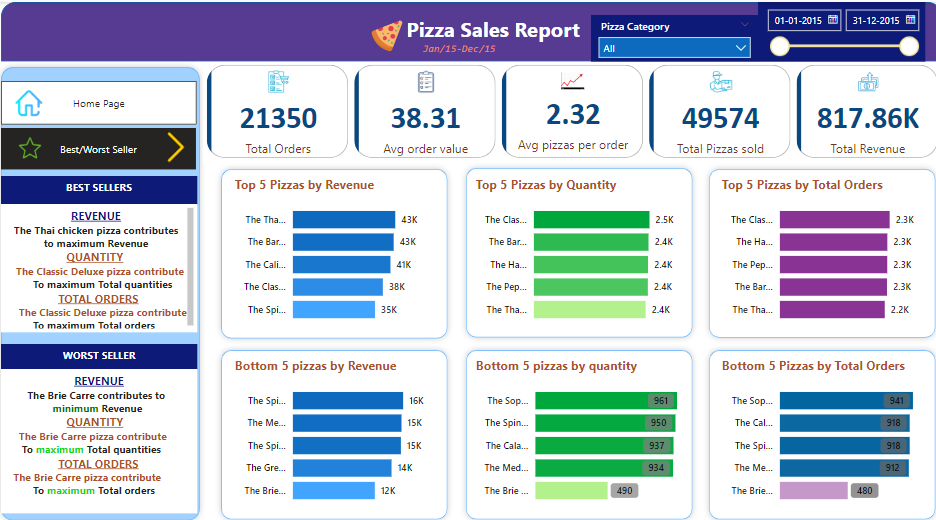

This screenshot's page, from the dashboard's own definition file:
{"tool":"powerbi","page":{"name":"Best/Worst Seller","canvas":[1280,720],"ordinal":1},"visuals":[{"type":"shape","box":[18.1,77.2,276,609.6],"z":0},{"type":"cardVisual","fields":{"Data":["pizza_sales.Total Orders","pizza_sales.Avg order value","pizza_sales.Avg pizzas per order","pizza_sales.Total Pizzas sold","pizza_sales.Total Revenue"]},"box":[290,77.5,967.5,132.5],"z":1000},{"type":"shape","box":[25.6,0,1232.2,77.8],"z":2000},{"type":"textbox","box":[542.2,12.2,256.7,54.4],"z":3000},{"type":"textbox","box":[542.2,45.6,167.8,32.2],"z":4000},{"type":"image","box":[497.8,18.9,67.8,52.2],"z":5000},{"type":"shape","box":[306.7,211.1,312.2,237.8],"z":6000},{"type":"textbox","box":[26.2,227.8,256.6,36.7],"z":7000},{"type":"textbox","box":[26.2,264.4,256.6,167.6],"z":8000},{"type":"textbox","box":[26.2,447.7,256.6,32.7],"z":9000},{"type":"textbox","box":[26.2,480.4,256.6,188.5],"z":10000},{"type":"slicer","fields":{"Values":["pizza_sales.pizza_category"]},"box":[798.9,16.7,218.9,61.1],"z":11000},{"type":"slicer","fields":{"Values":["pizza_sales.order_date"]},"box":[1017.8,0,218.9,77.8],"z":12000},{"type":"shape","box":[626.7,210,312.2,237.8],"z":13000},{"type":"shape","box":[945.6,211.1,312.2,236.7],"z":14000},{"type":"shape","box":[306.7,447.8,312.2,237.8],"z":15000},{"type":"shape","box":[626.7,447.8,312.2,237.8],"z":16000},{"type":"shape","box":[945.6,447.8,312.2,237.8],"z":17000},{"type":"barChart","title":"Top 5 Pizzas by Revenue","fields":{"Category":["pizza_sales.pizza_name"],"Y":["pizza_sales.Total Revenue"]},"box":[327,228.4,271.1,203.7],"z":18000},{"type":"barChart","title":"Top 5 Pizzas by Quantity","fields":{"Category":["pizza_sales.pizza_name"],"Y":["pizza_sales.Total Pizzas sold"]},"box":[642.5,228.4,271.1,203.7],"z":19000},{"type":"barChart","title":"Bottom 5 pizzas by Revenue","fields":{"Category":["pizza_sales.pizza_name"],"Y":["pizza_sales.Total Revenue"]},"box":[327,465,271.1,203.7],"z":20000},{"type":"barChart","title":"Bottom 5 pizzas by quantity","fields":{"Category":["pizza_sales.pizza_name"],"Y":["pizza_sales.Total Pizzas sold"]},"box":[642.5,465,281,203.7],"z":21000},{"type":"barChart","title":"Top 5 Pizzas by Total Orders","fields":{"Category":["pizza_sales.pizza_name"],"Y":["pizza_sales.Total Orders"]},"box":[964.5,228.4,271.1,203.7],"z":21001},{"type":"barChart","title":"Bottom 5 Pizzas by Total Orders","fields":{"Category":["pizza_sales.pizza_name"],"Y":["pizza_sales.Total Orders"]},"box":[964.5,465,271.1,203.7],"z":21002},{"type":"pageNavigator","box":[26.2,103.4,256.6,57.6],"z":21003},{"type":"pageNavigator","box":[26.2,164.9,255.3,55],"z":21004},{"type":"image","box":[229,165.6,51.8,50.4],"z":21005},{"type":"image","box":[25.9,109.4,73.4,44.6],"z":21006},{"type":"image","box":[36,171.4,54.7,38.9],"z":21007}]}

Visuals, with their boxes in screenshot pixels (x1, y1, x2, y2), scaled from the page's 1280x720 canvas onto the 936x520 screenshot:
shape: [13, 56, 215, 496]
cardVisual - pizza_sales.Total Orders x pizza_sales.Avg order value: [212, 56, 920, 152]
shape: [19, 0, 920, 56]
textbox: [396, 9, 584, 48]
textbox: [396, 33, 519, 56]
image: [364, 14, 414, 51]
shape: [224, 152, 453, 324]
textbox: [19, 165, 207, 191]
textbox: [19, 191, 207, 312]
textbox: [19, 323, 207, 347]
textbox: [19, 347, 207, 483]
slicer - pizza_sales.pizza_category: [584, 12, 744, 56]
slicer - pizza_sales.order_date: [744, 0, 904, 56]
shape: [458, 152, 687, 323]
shape: [691, 152, 920, 323]
shape: [224, 323, 453, 495]
shape: [458, 323, 687, 495]
shape: [691, 323, 920, 495]
"Top 5 Pizzas by Revenue" barChart: [239, 165, 437, 312]
"Top 5 Pizzas by Quantity" barChart: [470, 165, 668, 312]
"Bottom 5 pizzas by Revenue" barChart: [239, 336, 437, 483]
"Bottom 5 pizzas by quantity" barChart: [470, 336, 675, 483]
"Top 5 Pizzas by Total Orders" barChart: [705, 165, 904, 312]
"Bottom 5 Pizzas by Total Orders" barChart: [705, 336, 904, 483]
pageNavigator: [19, 75, 207, 116]
pageNavigator: [19, 119, 206, 159]
image: [167, 120, 205, 156]
image: [19, 79, 73, 111]
image: [26, 124, 66, 152]
